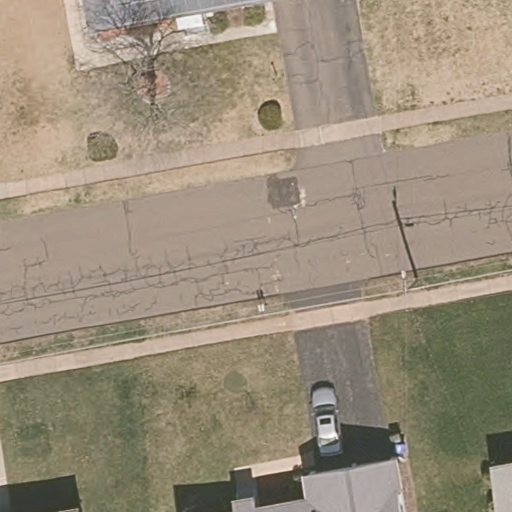DT: (399, 268, 425, 295)
